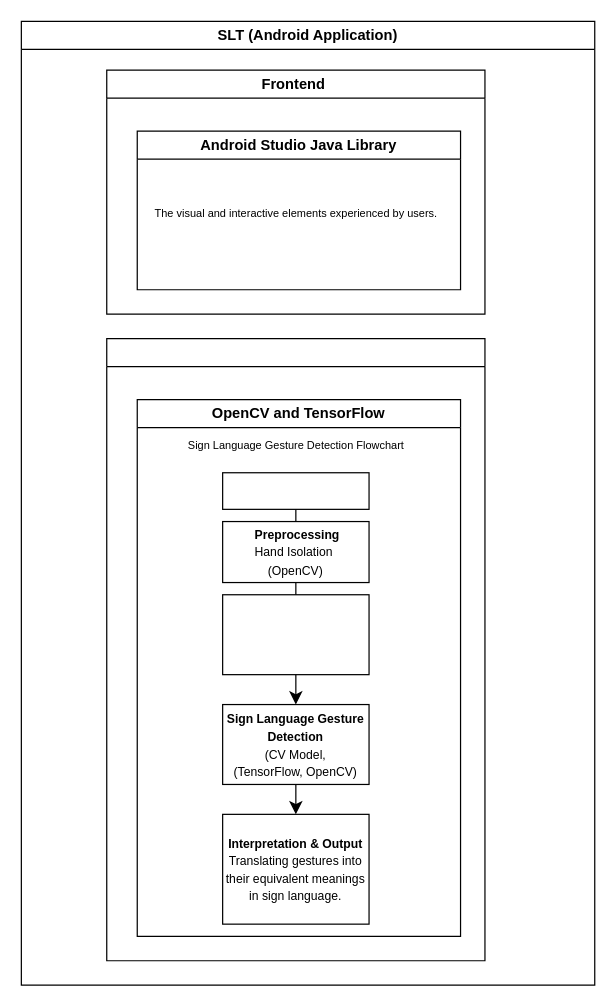
Some shapes in this 616 by 1007 pixel diagram are drawn without their labels. The shapes that lost their labels are listed below. From the top down, each one's box as (x1, y1, x2, y2) in pixels, then its label:
(221, 472, 369, 509): Capture Video Frames
(221, 594, 369, 675): Feature Extraction Hand Shape (OpenCV, TensorFlow)
(106, 337, 485, 961): BACKEND
